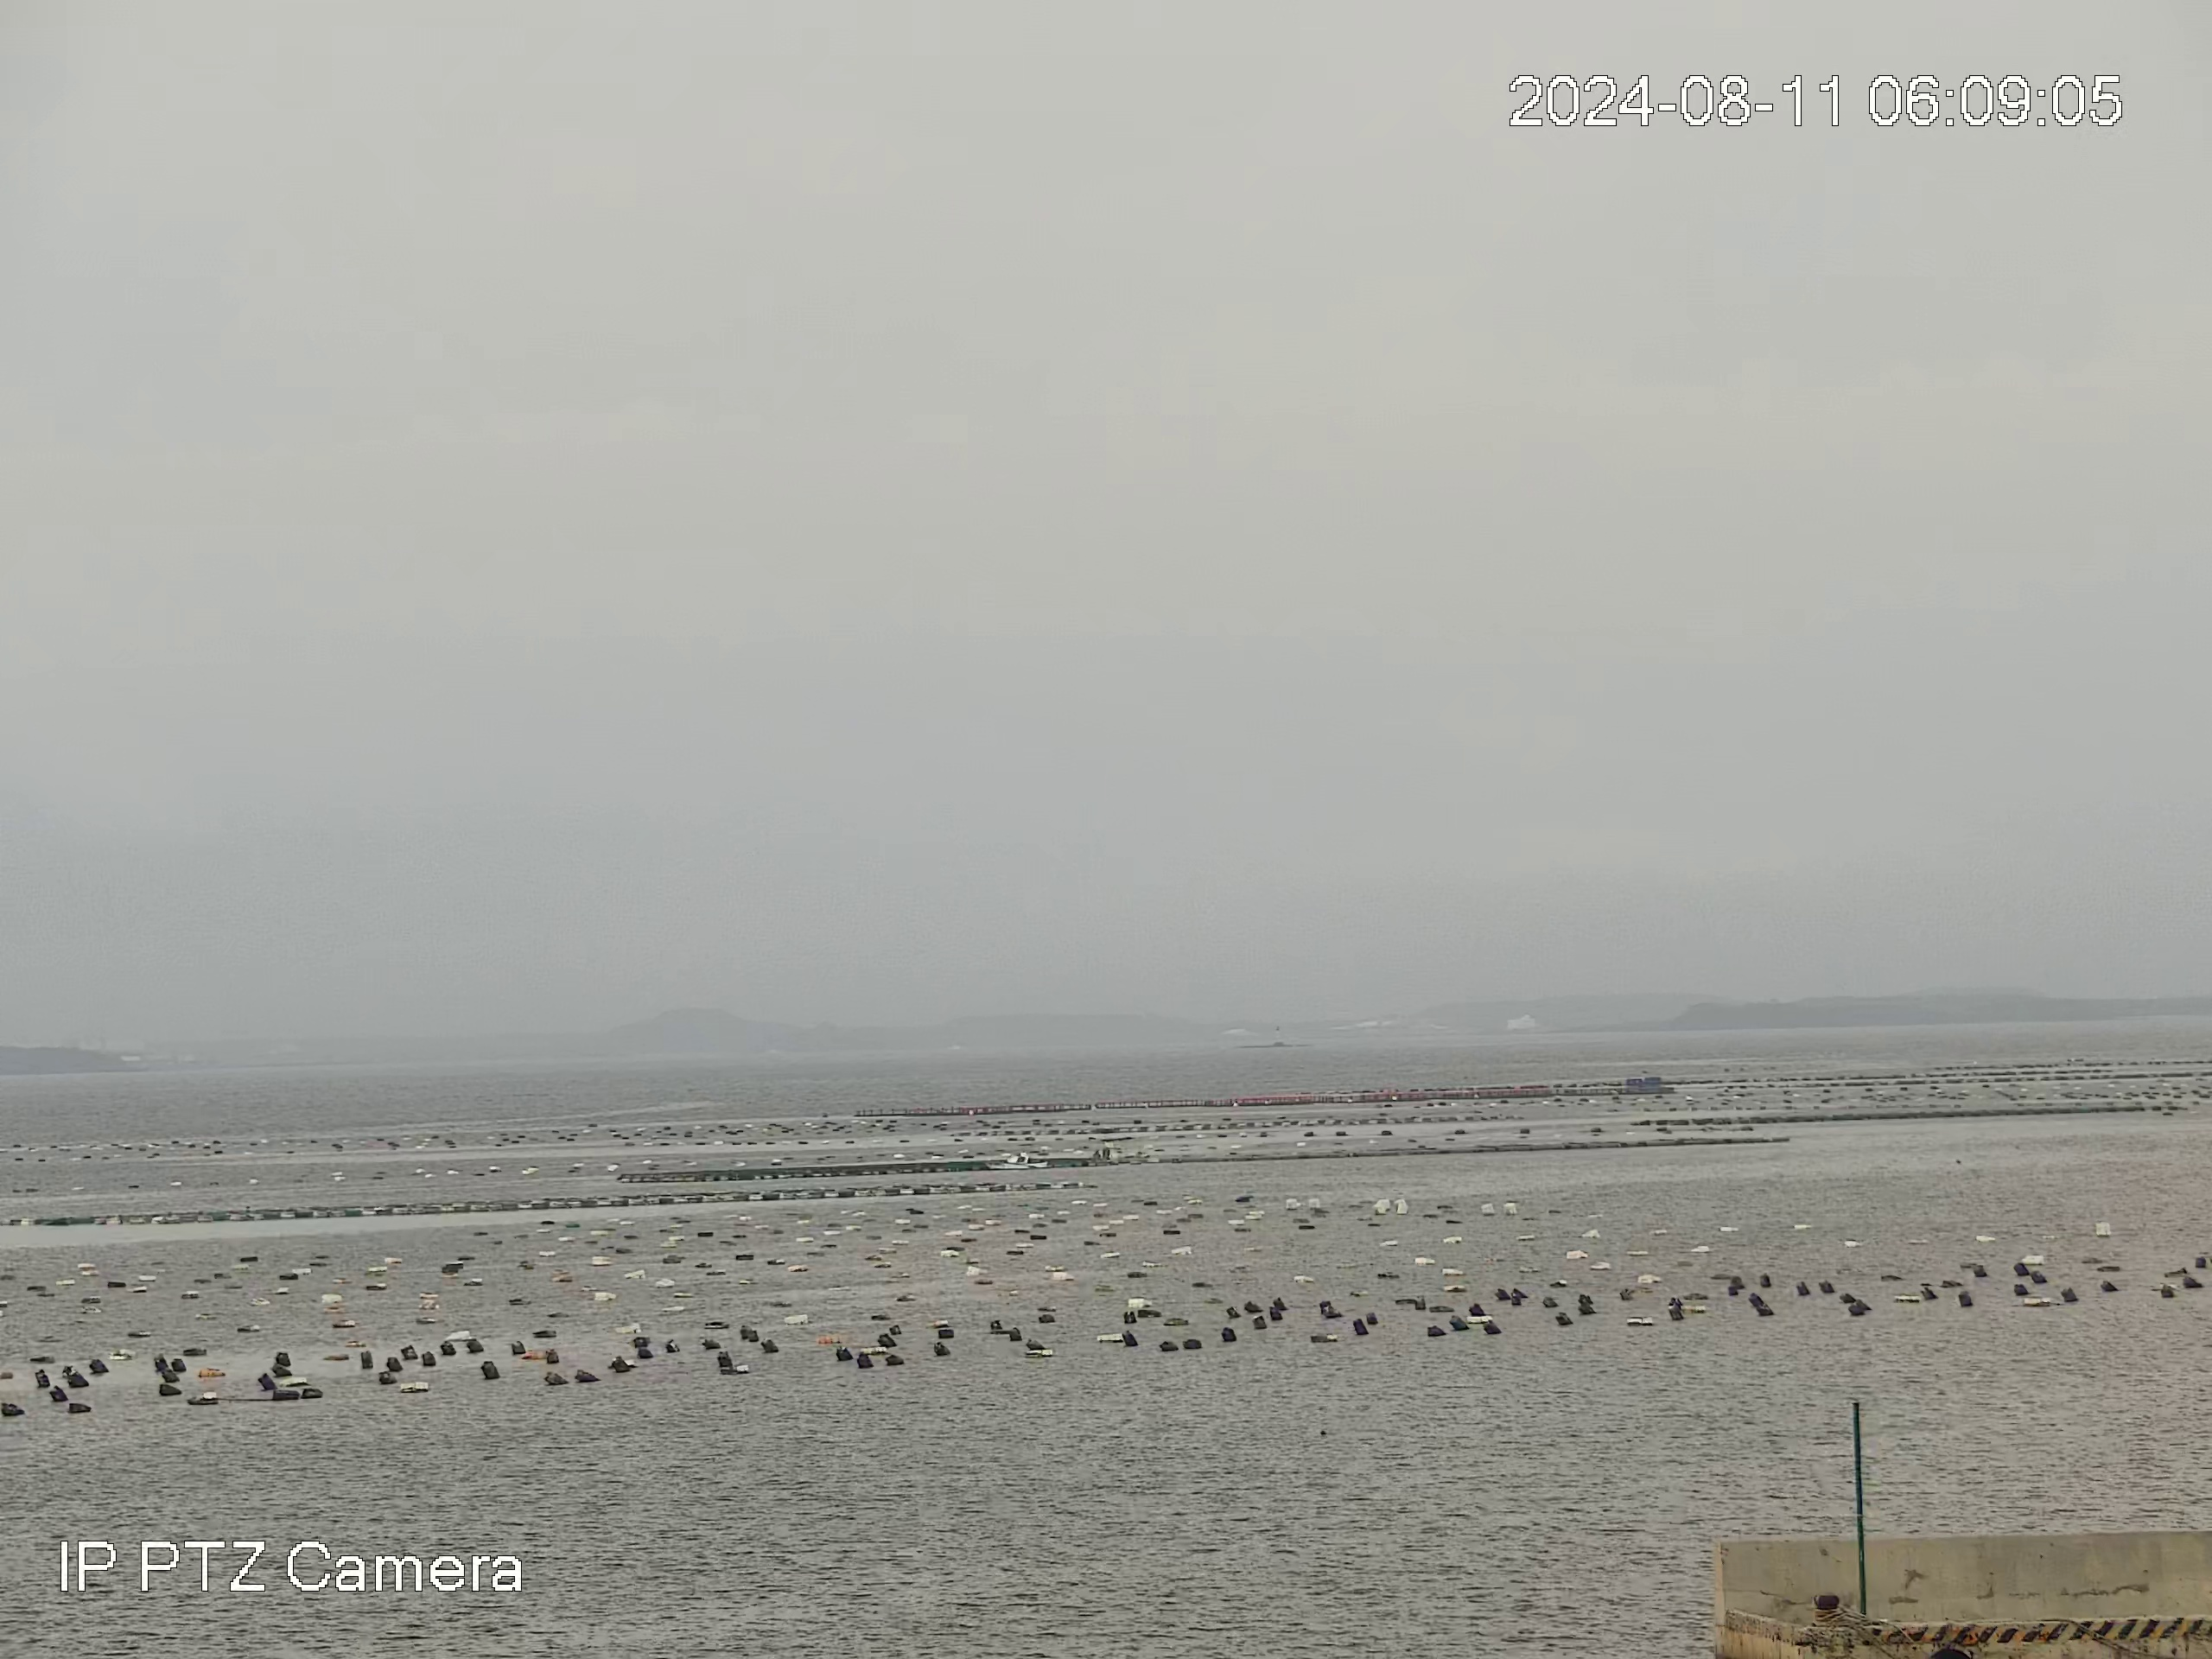boat: (981, 1150, 1052, 1171)
